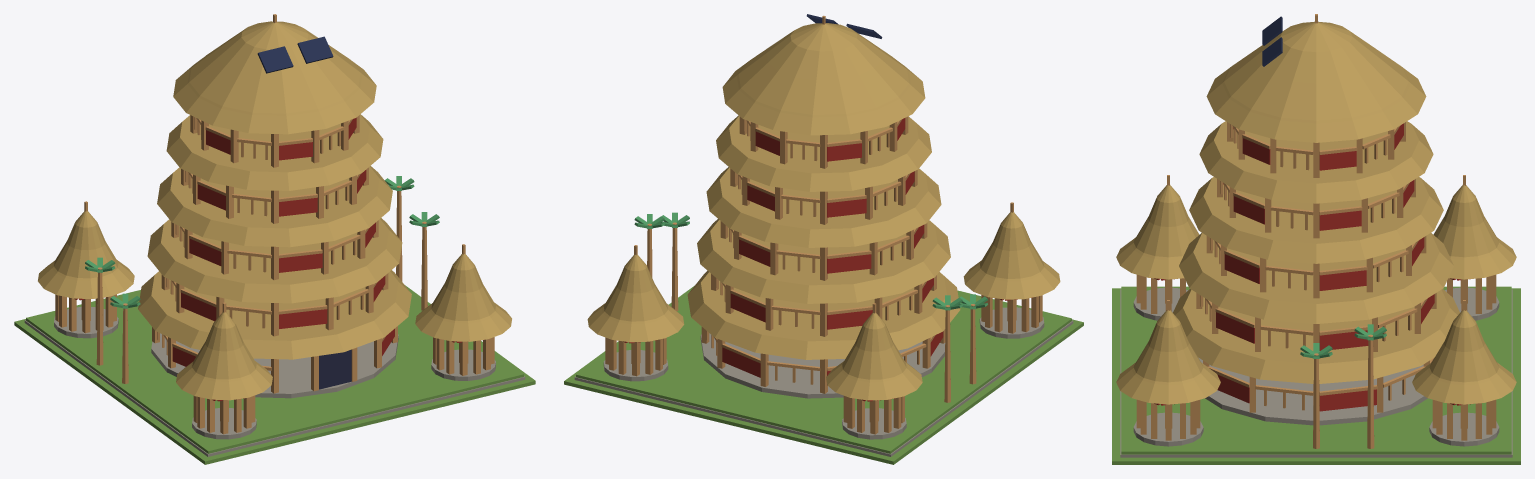
File: house-2x2-5f-fale-a-solar.glb
The picture shows the model from 3 angles, left to right: view 1: azimuth 30°, elevation 25°; view 2: azimuth 150°, elevation 25°; view 3: azimuth 270°, elevation 25°; orthographic projection. The views are drawn at different scales.
Parts seen in each view (by area): view 1: house-2x2-5f-fale-a-solar; view 2: house-2x2-5f-fale-a-solar; view 3: house-2x2-5f-fale-a-solar.
Boxes of the visible parts, x1,y1,x2,y2 form: house-2x2-5f-fale-a-solar: [14, 14, 535, 464]; house-2x2-5f-fale-a-solar: [564, 14, 1083, 464]; house-2x2-5f-fale-a-solar: [1112, 14, 1520, 464].
Size of the model in its own units: 1.99 by 1.96 by 1.99.
1 material, 1 textured.
